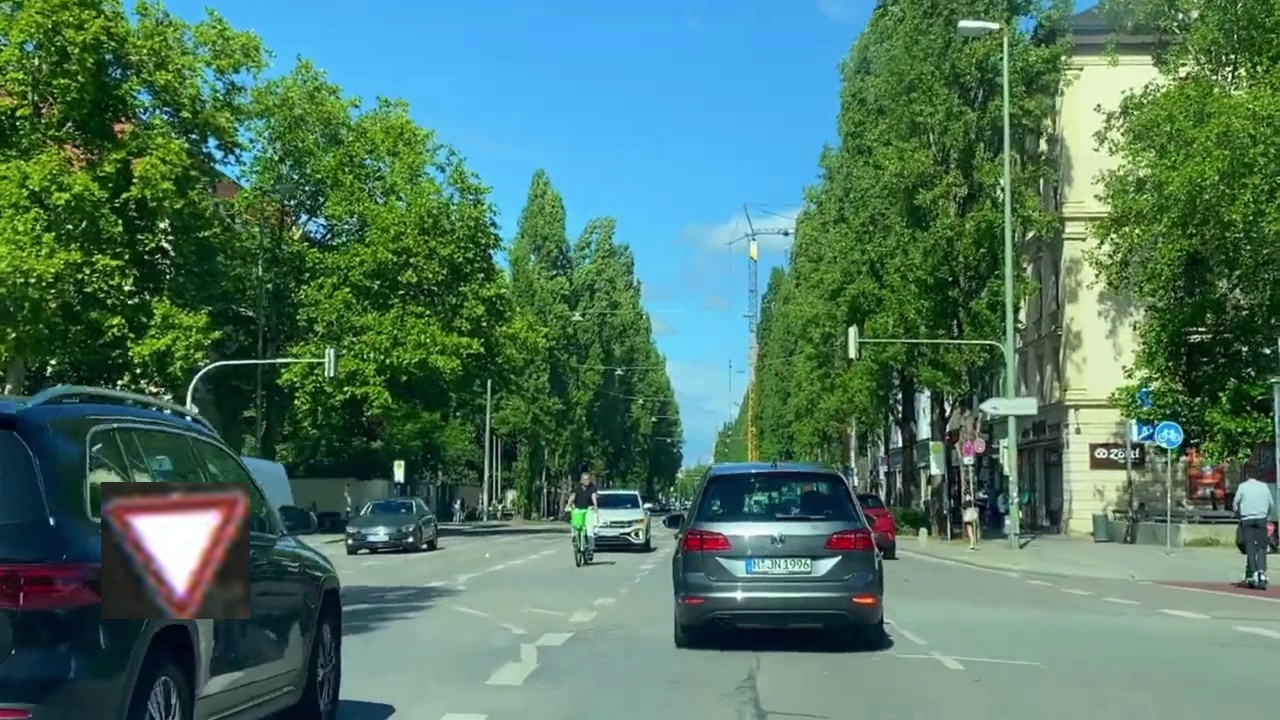Yield: (101, 482, 250, 619)
